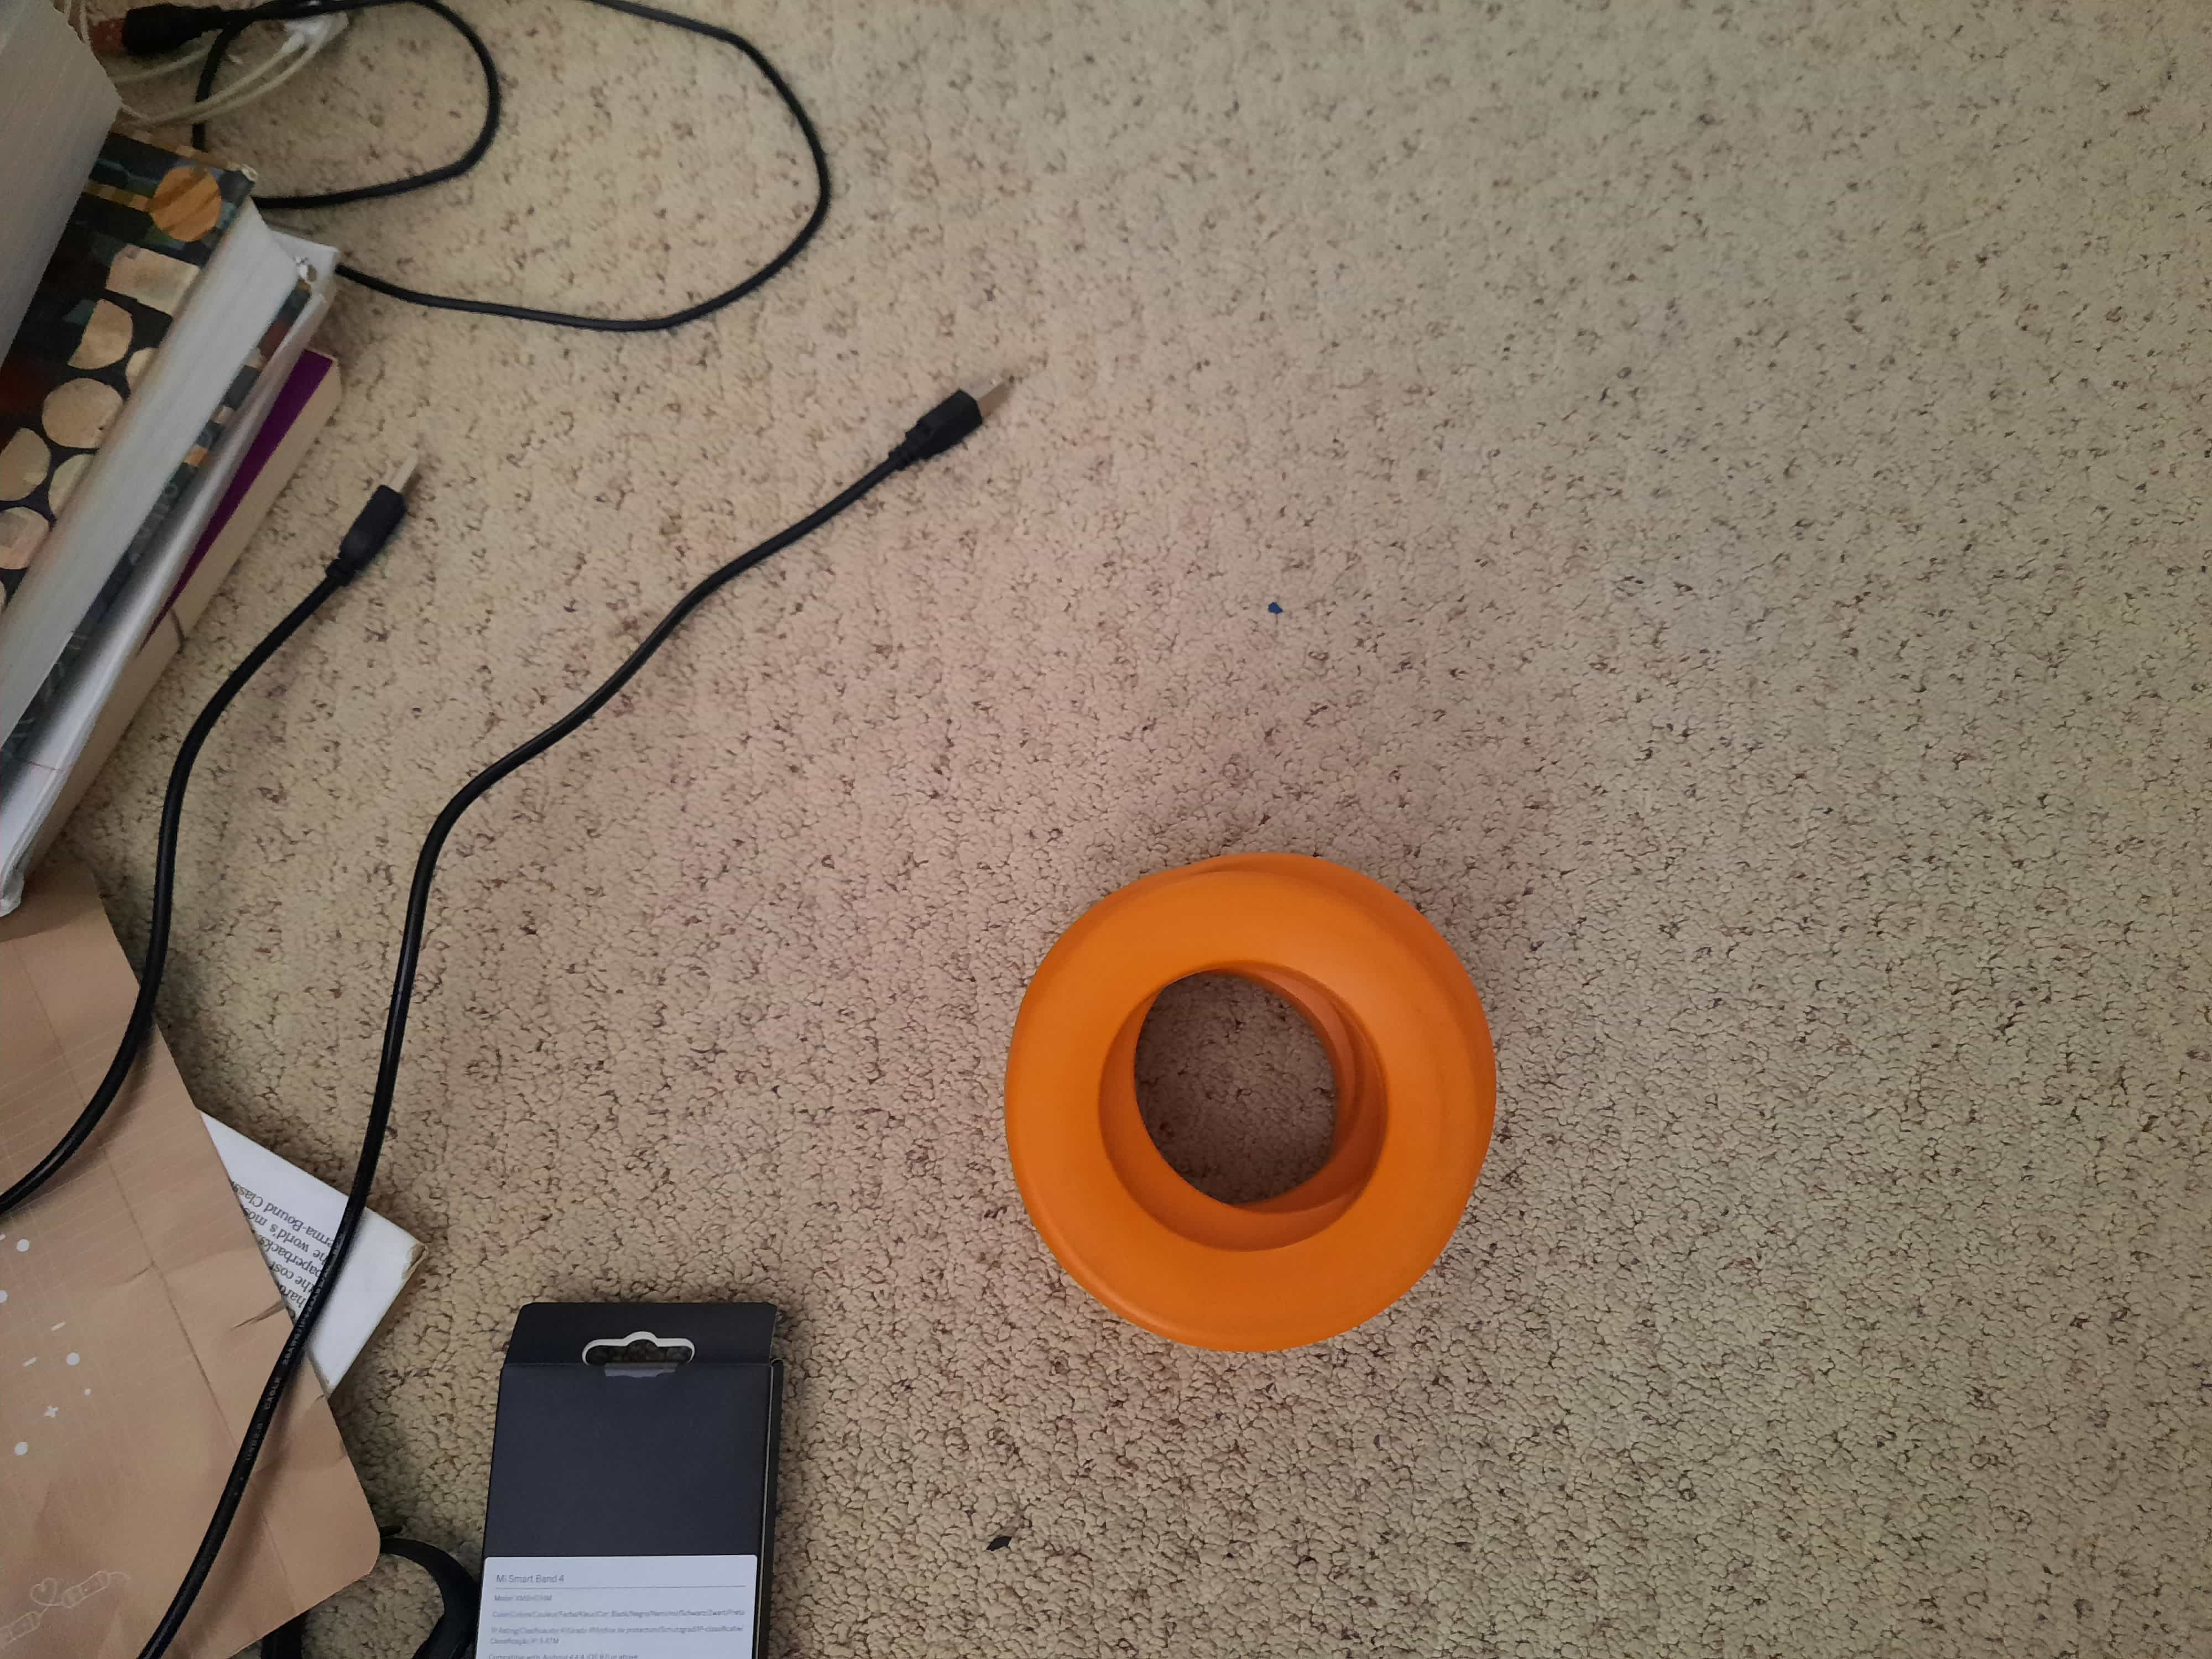FourStack: (1003, 861, 1484, 1330)
